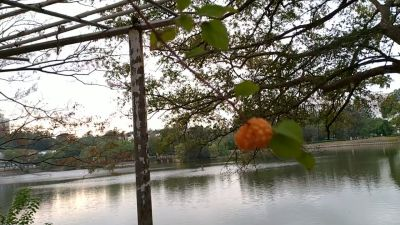eggs: (233, 115, 275, 153)
